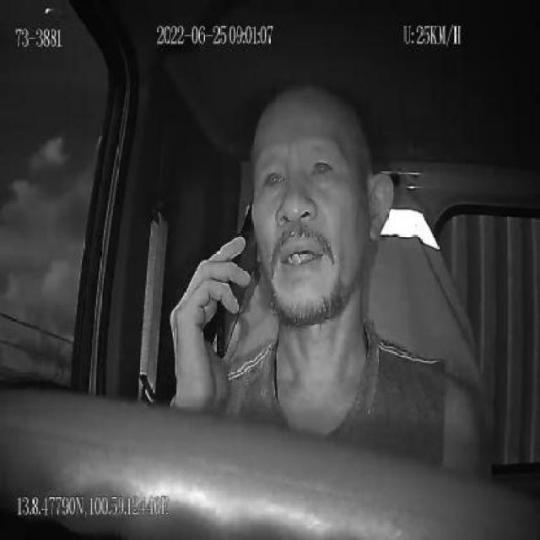phone: (212, 199, 259, 360)
